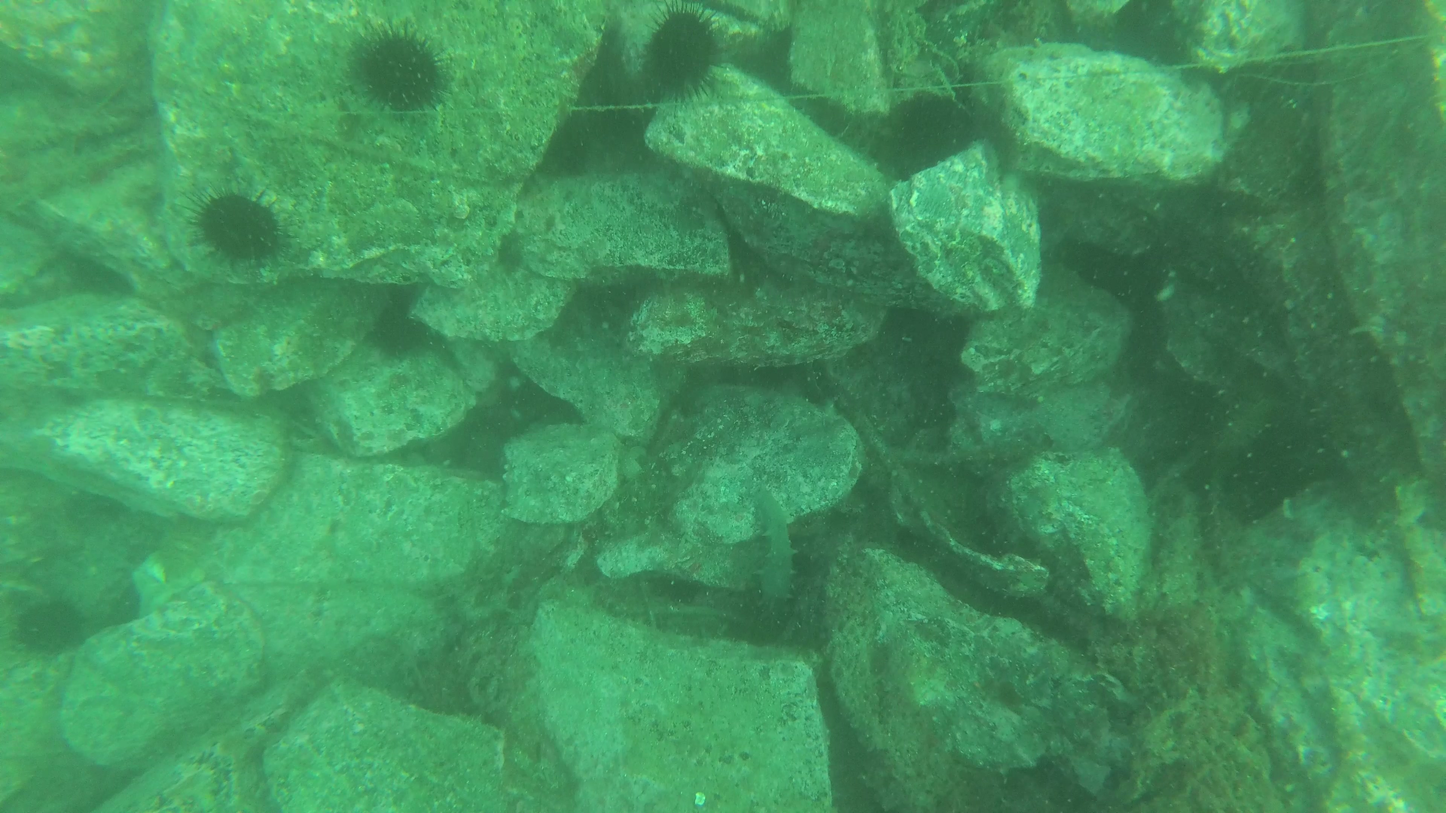echinus: (730, 481, 805, 615)
starfish: (343, 23, 457, 123), (635, 0, 734, 104), (169, 186, 287, 264), (16, 590, 85, 649)
